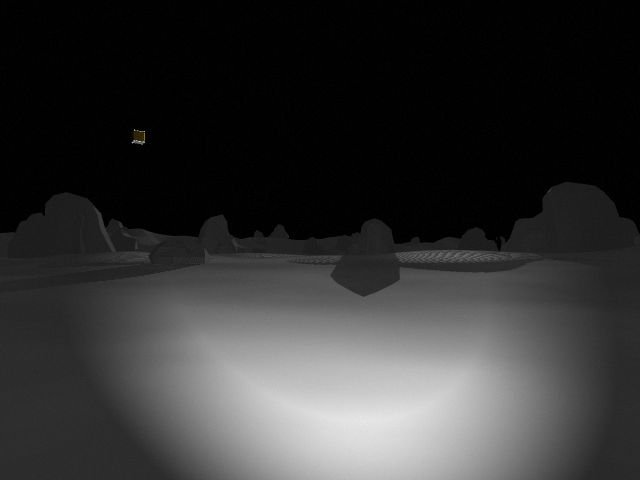cubesat: (129, 126, 149, 147)
